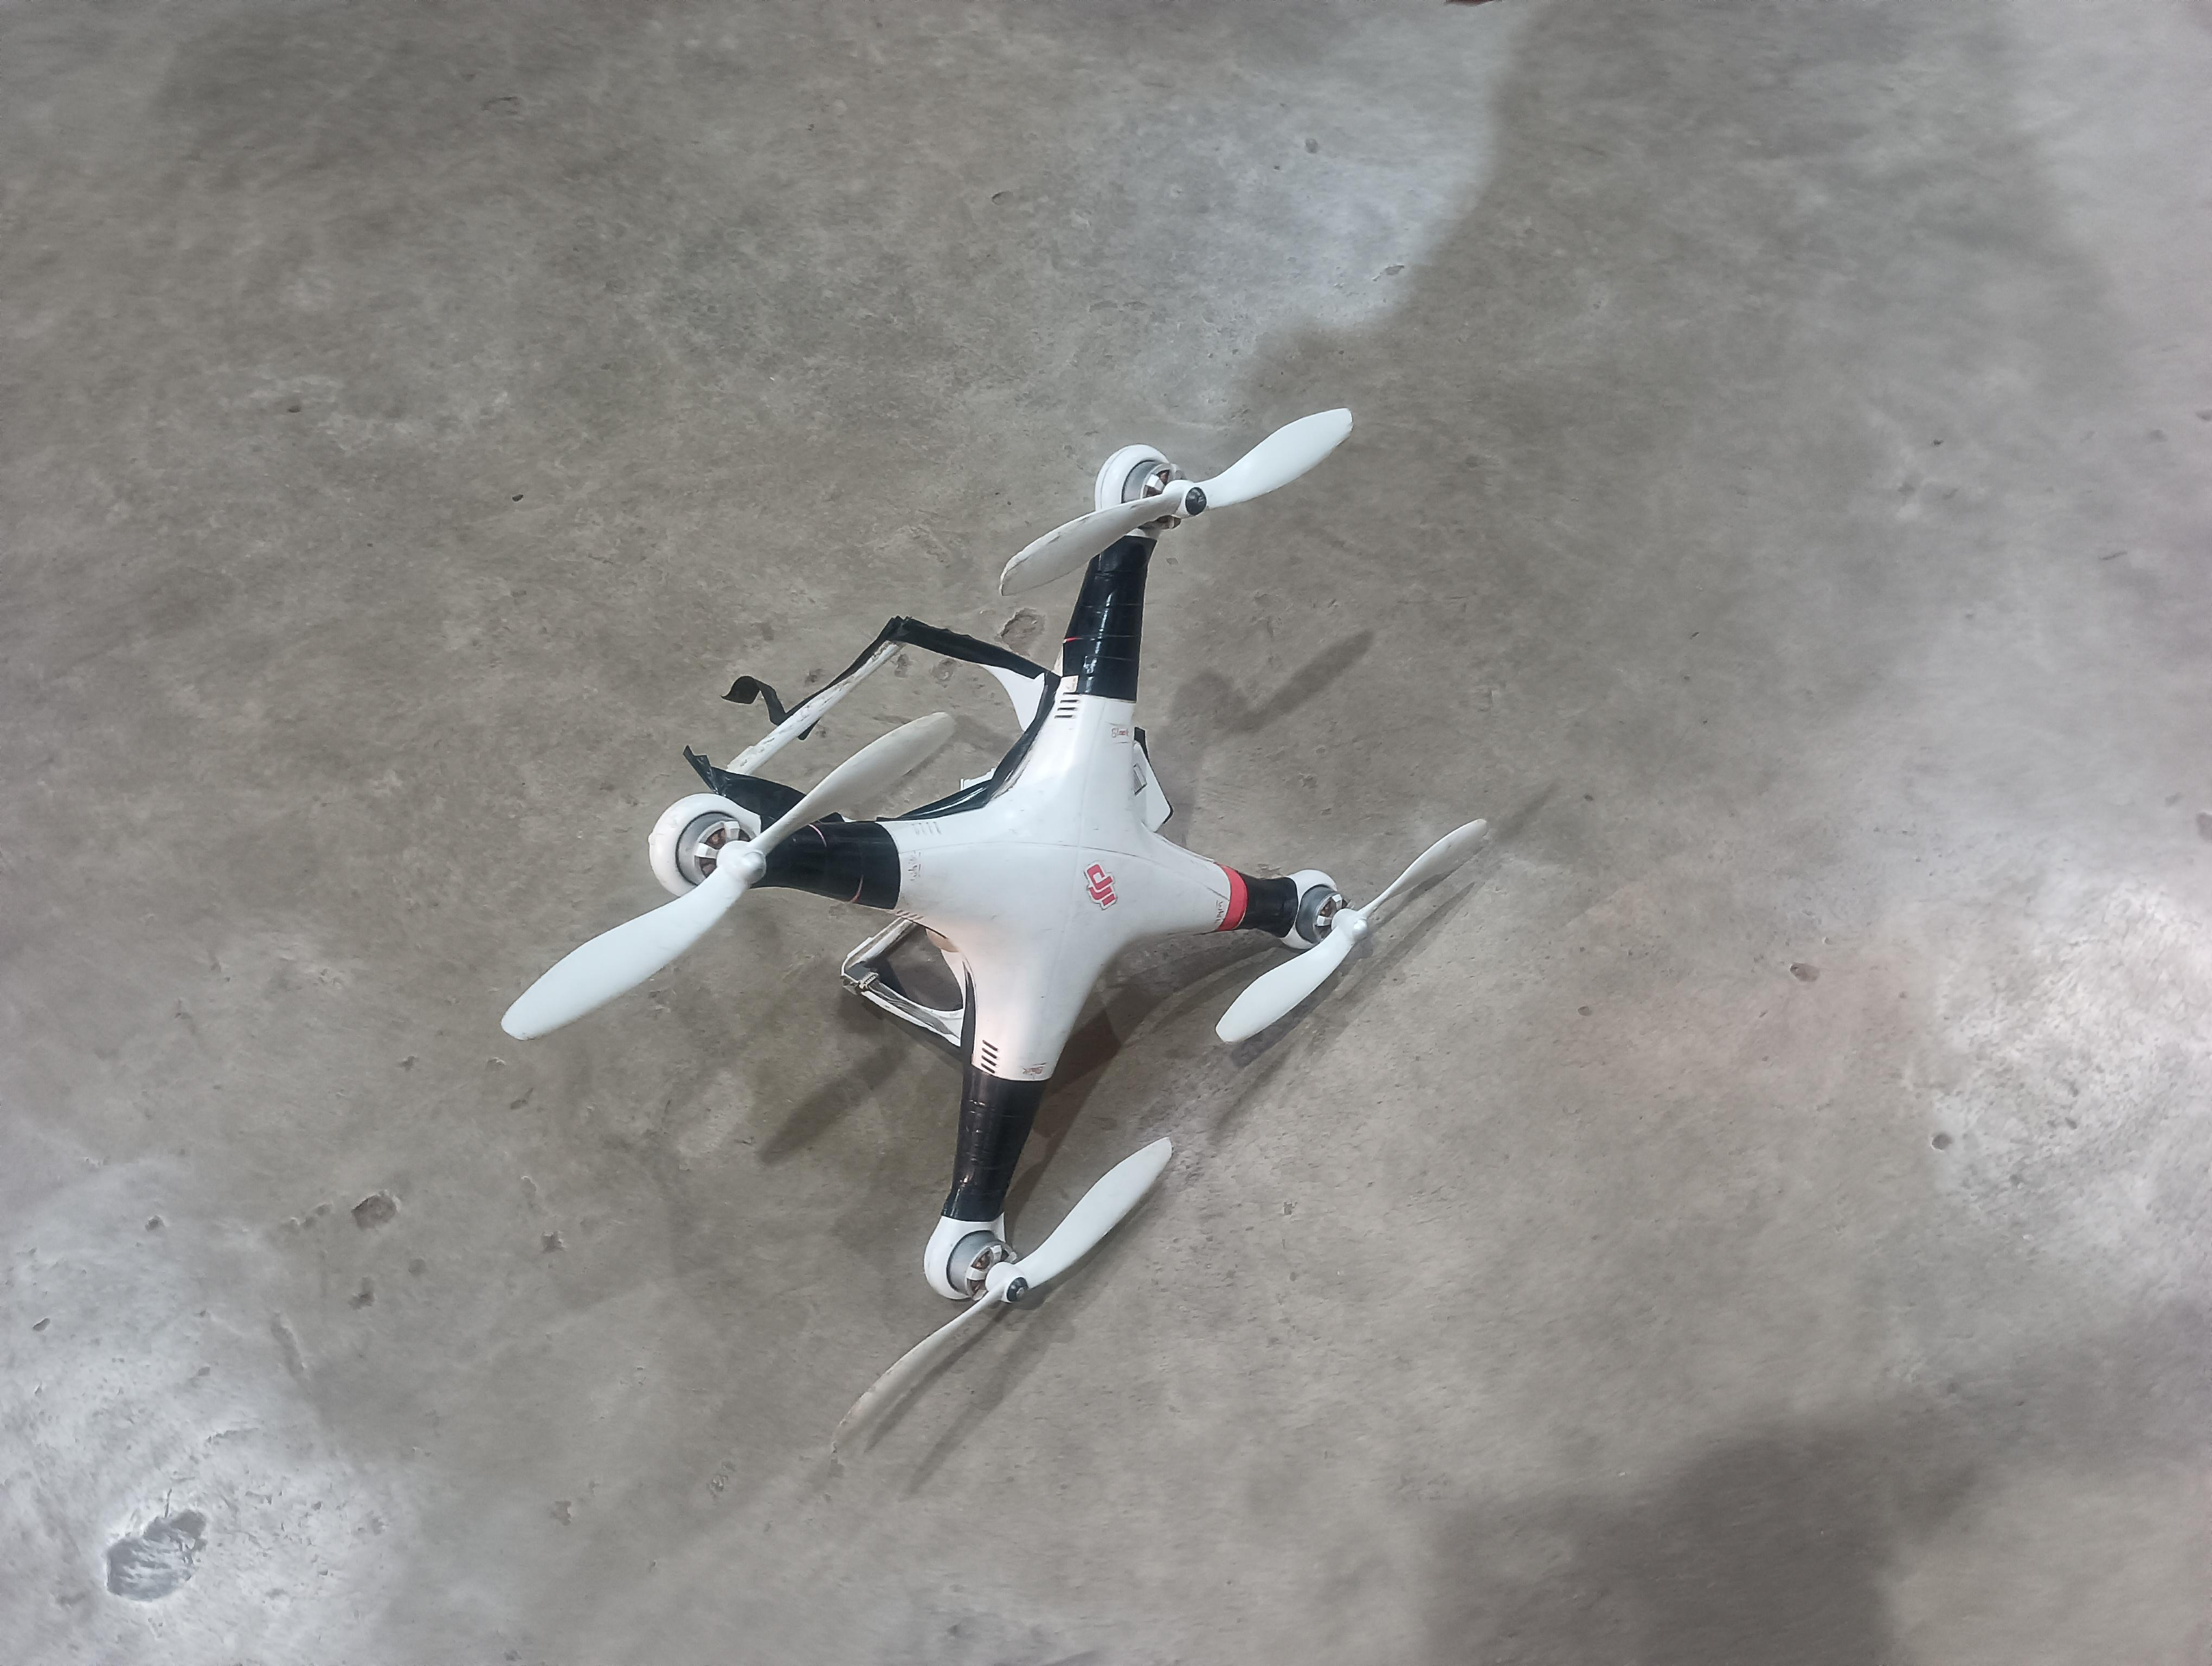drone: (472, 359, 1577, 1349)
